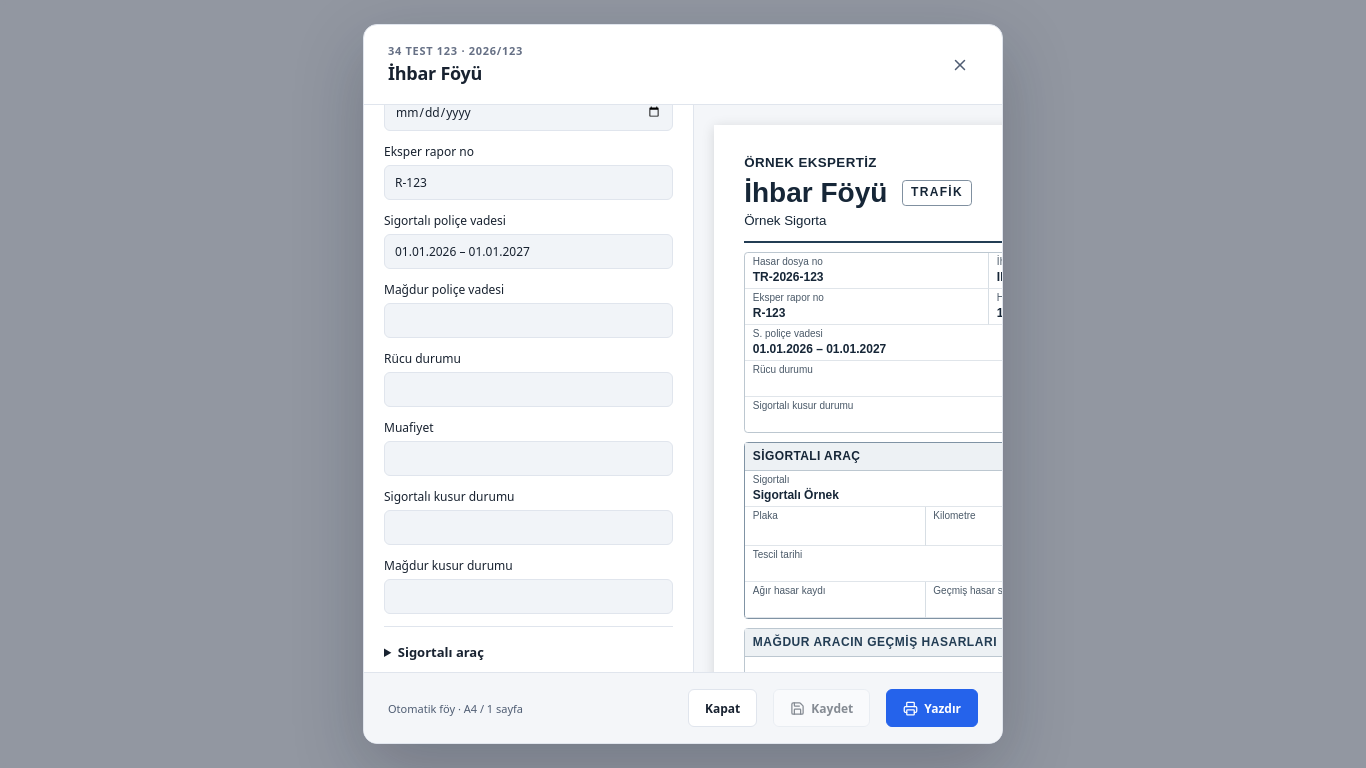
Test case: İhbar föyü düzenleme ve yazdırma › retains unsaved values and never prints when a save fails
(page scrolled)
Type "Korumalı not" into the field labelled "Rücu durumu" at (528, 389), box [384, 372, 673, 407]
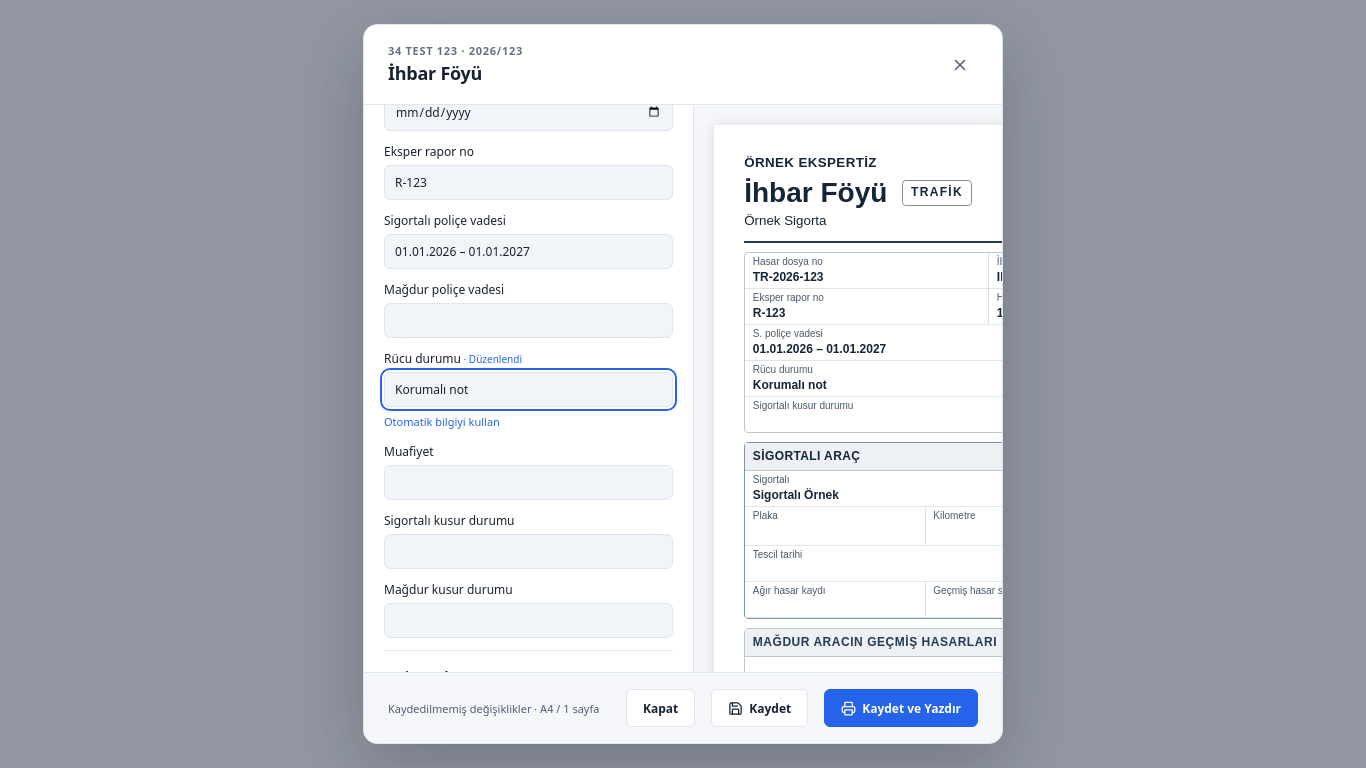
Click the button "Kaydet ve Yazdır" at (901, 708), box [824, 689, 978, 727]
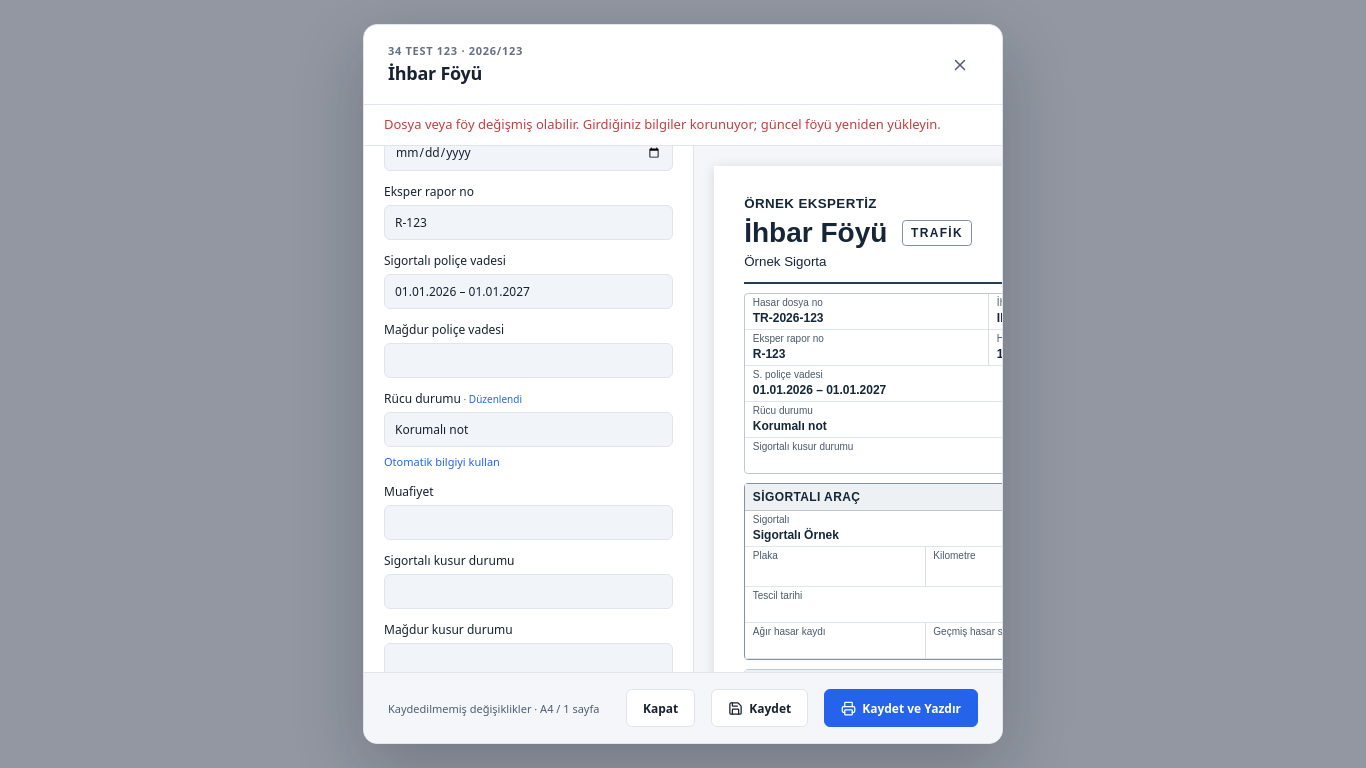
Now the message shows "Girdiğiniz bilgiler korunuyor", box [384, 115, 941, 133]
